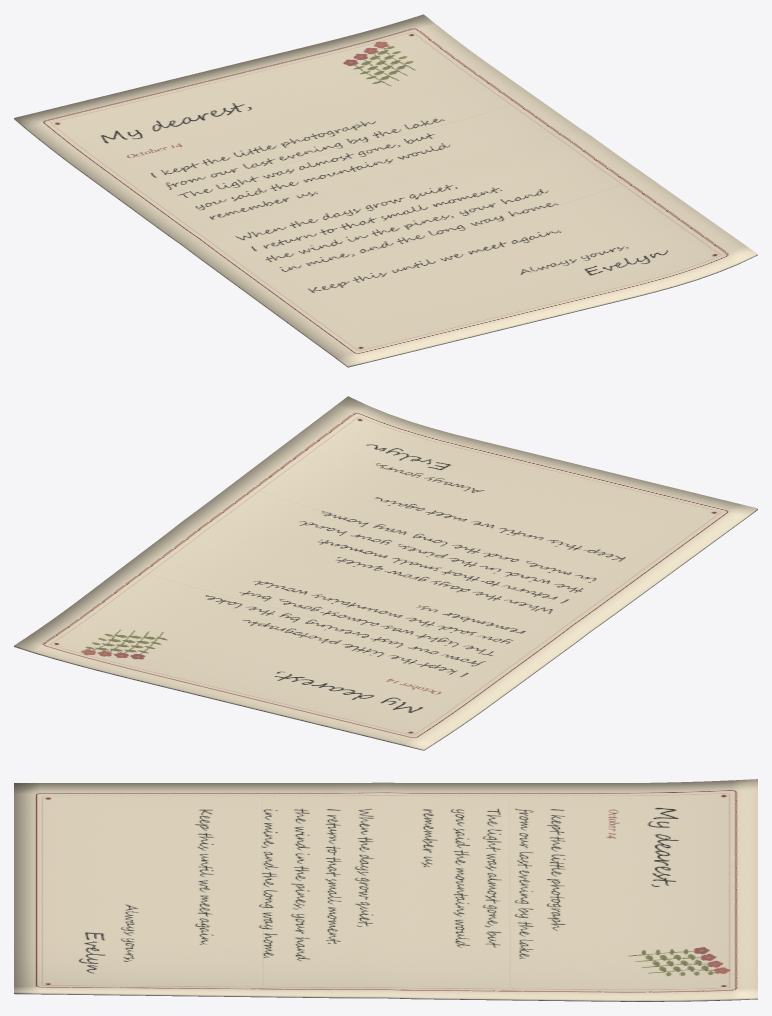
Rendered from SM_Collectible_Letter.glb.
The picture shows the model from 3 angles, top to bottom: view 1: azimuth 30°, elevation 25°; view 2: azimuth 150°, elevation 25°; view 3: azimuth 270°, elevation 25°; orthographic projection. The views are drawn at different scales.
Parts seen in each view (by area): view 1: SM_Collectible_Letter; view 2: SM_Collectible_Letter; view 3: SM_Collectible_Letter.
Part boxes in pixels (<box>): SM_Collectible_Letter: <box>14,14,757,367</box>; SM_Collectible_Letter: <box>14,396,757,750</box>; SM_Collectible_Letter: <box>14,779,757,1001</box>.
Bounding box in the file's own units: 0.1751 × 0.00565 × 0.247.
Materials: 2 (1 with a texture image).
